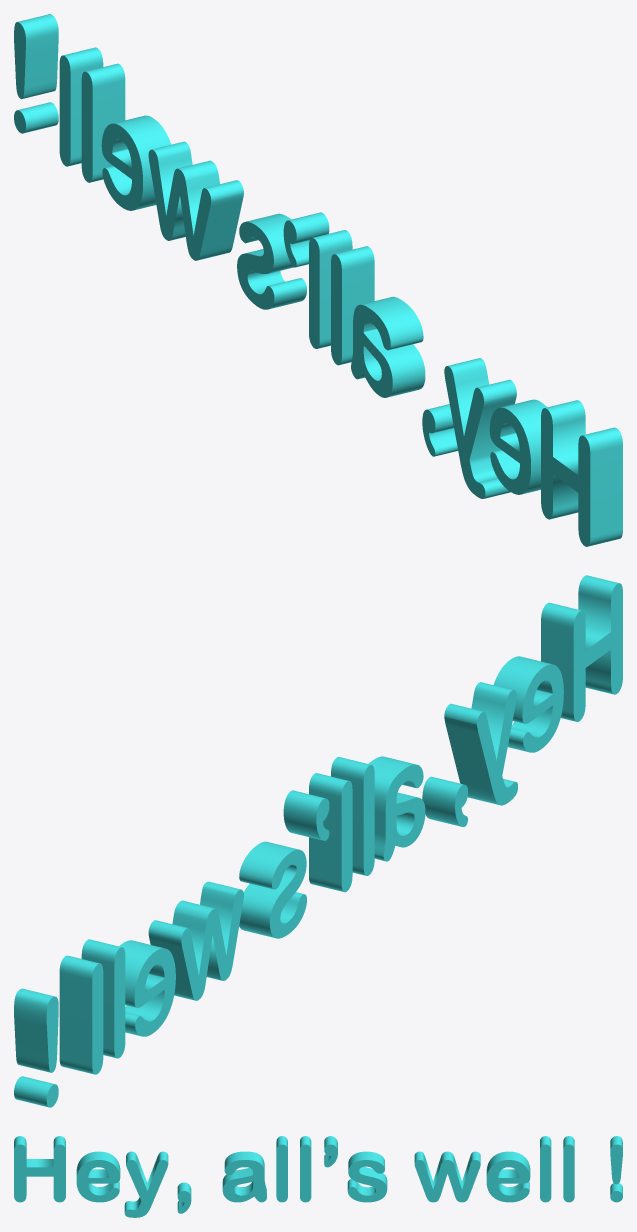
File: allwell.glb
The picture shows the model from 3 angles, top to bottom: view 1: azimuth 30°, elevation 25°; view 2: azimuth 150°, elevation 25°; view 3: azimuth 270°, elevation 25°; orthographic projection. The views are drawn at different scales.
Parts seen in each view (by area): view 1: 文本; view 2: 文本; view 3: 文本.
Part boxes in pixels (x1,y1,x2,y2): 文本: [14, 14, 622, 546]; 文本: [14, 575, 622, 1107]; 文本: [14, 1136, 622, 1217].
Size of the model in its own units: 0.2 by 0.8105 by 6.1.
